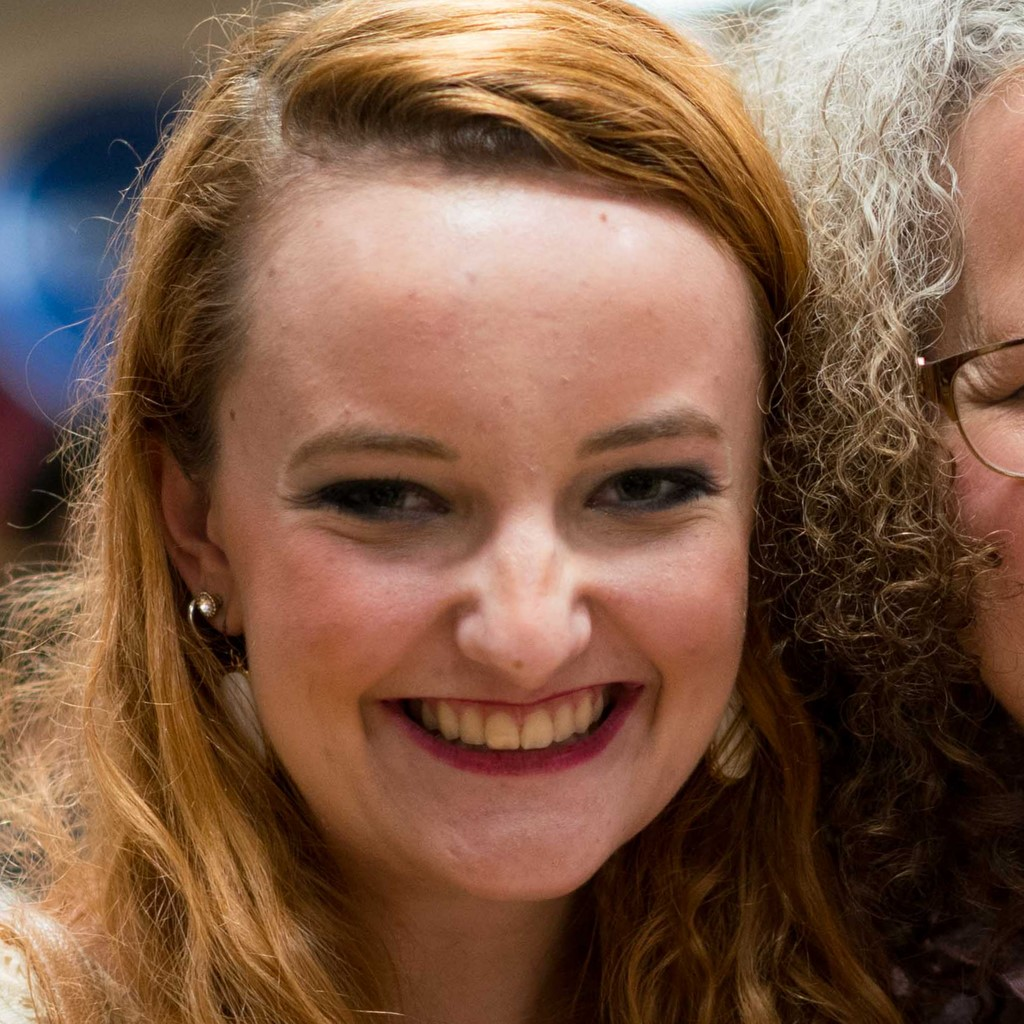sin_mascara: (198, 108, 764, 900)
